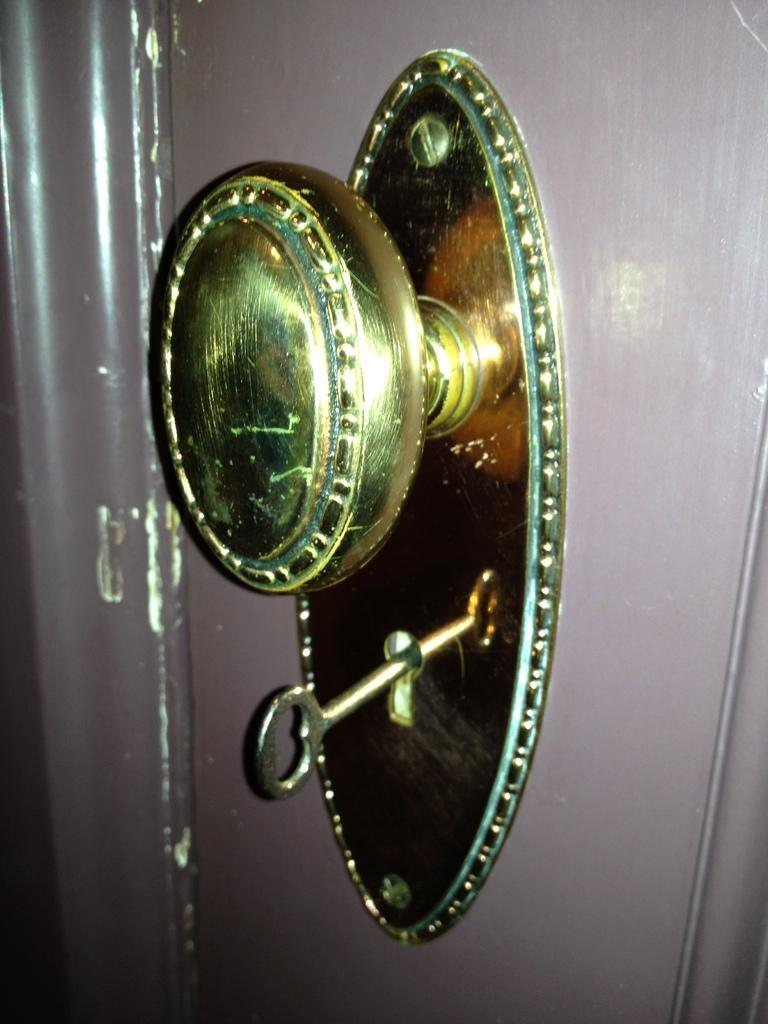handle: (138, 41, 570, 950)
